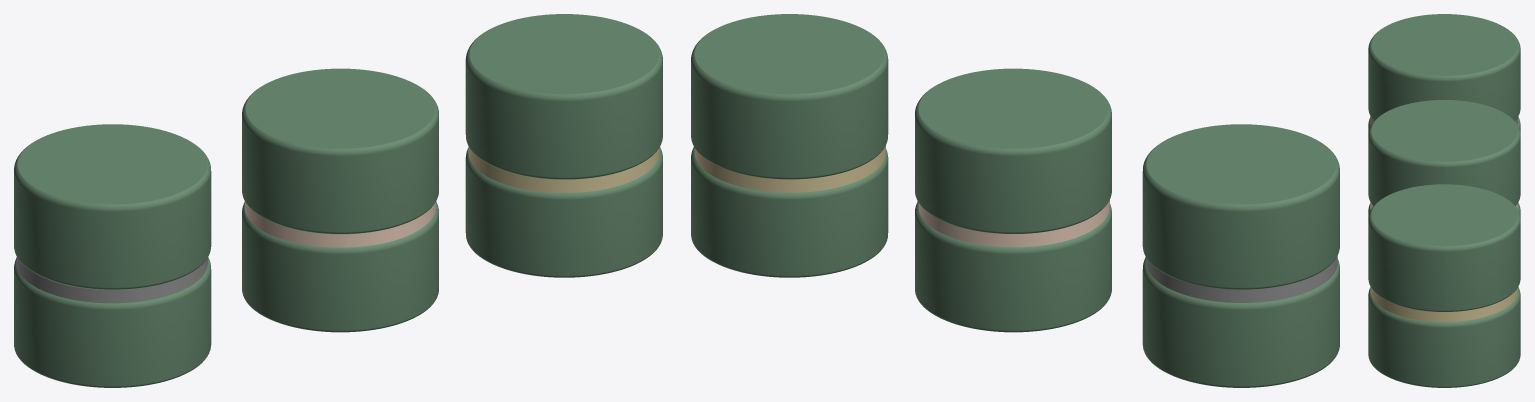
File: pufe-belt.glb
3 views of the same model, side by side, from view 1: azimuth 30°, elevation 25°; view 2: azimuth 150°, elevation 25°; view 3: azimuth 270°, elevation 25° (orthographic). The views are drawn at different scales.
Visible parts, largest first — view 1: Puff Belt cinto dourado, puff belt cinto cromado, Puff Belt cinto rosê; view 2: Puff Belt cinto dourado, puff belt cinto cromado, Puff Belt cinto rosê; view 3: Puff Belt cinto dourado, puff belt cinto cromado, Puff Belt cinto rosê.
Boxes of the visible parts, box(x1,y1,x2,y2) form: Puff Belt cinto dourado: box(465, 14, 662, 277); puff belt cinto cromado: box(14, 124, 211, 387); Puff Belt cinto rosê: box(242, 68, 438, 332); Puff Belt cinto dourado: box(691, 14, 888, 277); puff belt cinto cromado: box(1142, 124, 1339, 387); Puff Belt cinto rosê: box(915, 68, 1111, 332); Puff Belt cinto dourado: box(1368, 184, 1520, 387); puff belt cinto cromado: box(1368, 14, 1520, 133); Puff Belt cinto rosê: box(1368, 100, 1520, 217).
Size of the model in its own units: 1.46 by 0.41 by 0.4.
